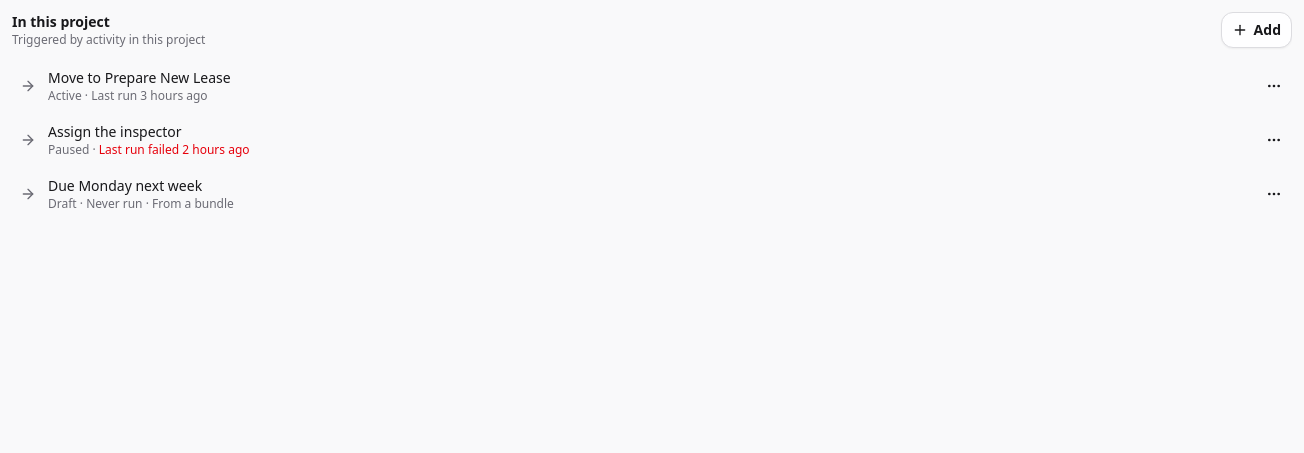
Test case: CustomizeRulesSection › gives each rule its own ⋯ menu, named for what removing it does
Click the button named "Actions for Assign the inspector".
click(1274, 140)  # box [1260,126,1288,154]
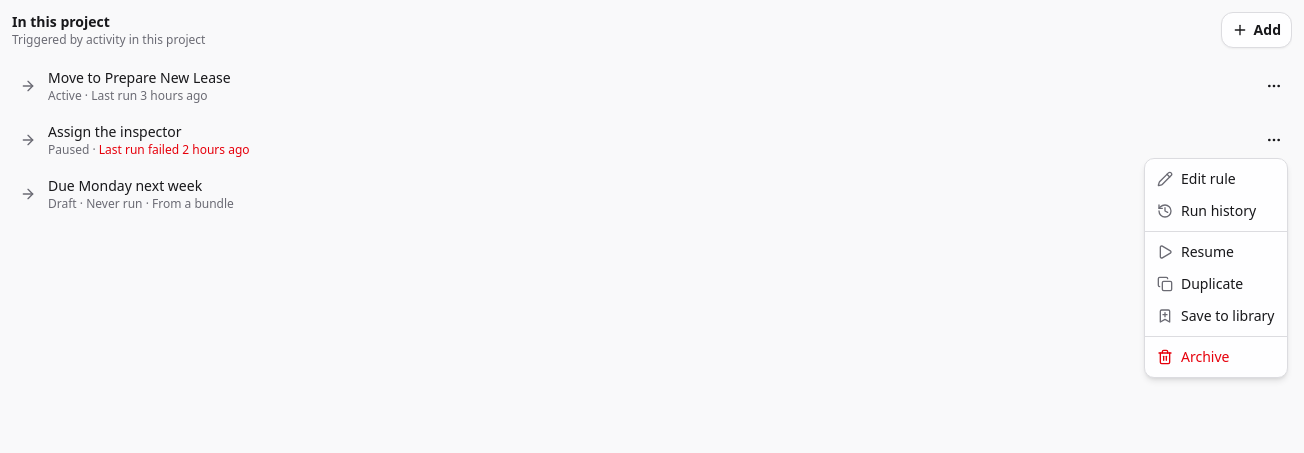
expect the menu items read "Edit rule", "Run history", "Resume", "Duplicate", "Save to library", "Archive", in this order: met, box [1157,169,1236,188]; [1157,201,1256,220]; [1157,242,1234,261]; [1157,274,1243,293]; [1157,306,1274,325]; [1157,347,1230,366]
Press Escape
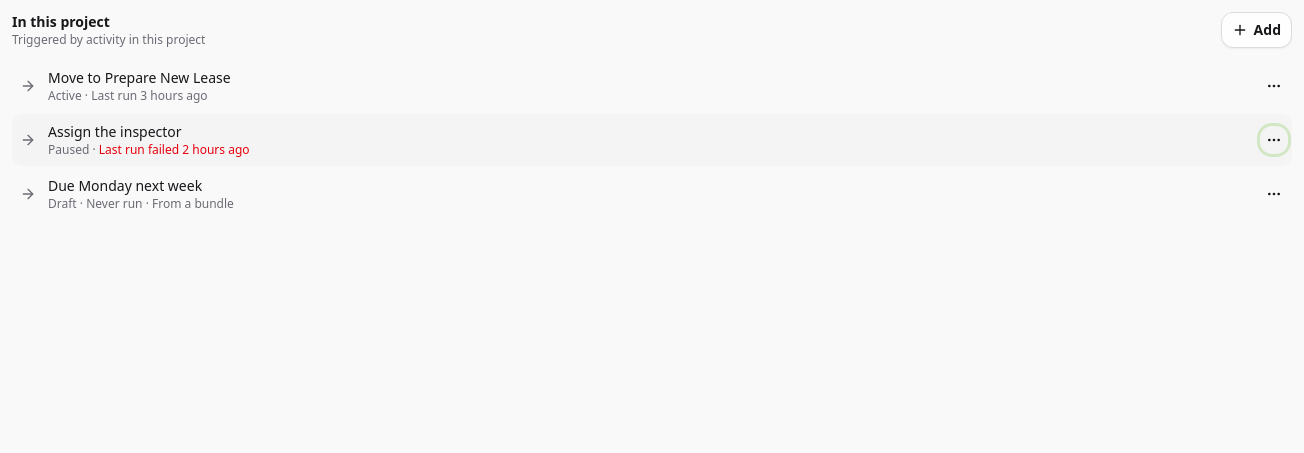
Click the button named "Actions for Due Monday next week".
click(1274, 194)  # box [1260,180,1288,208]
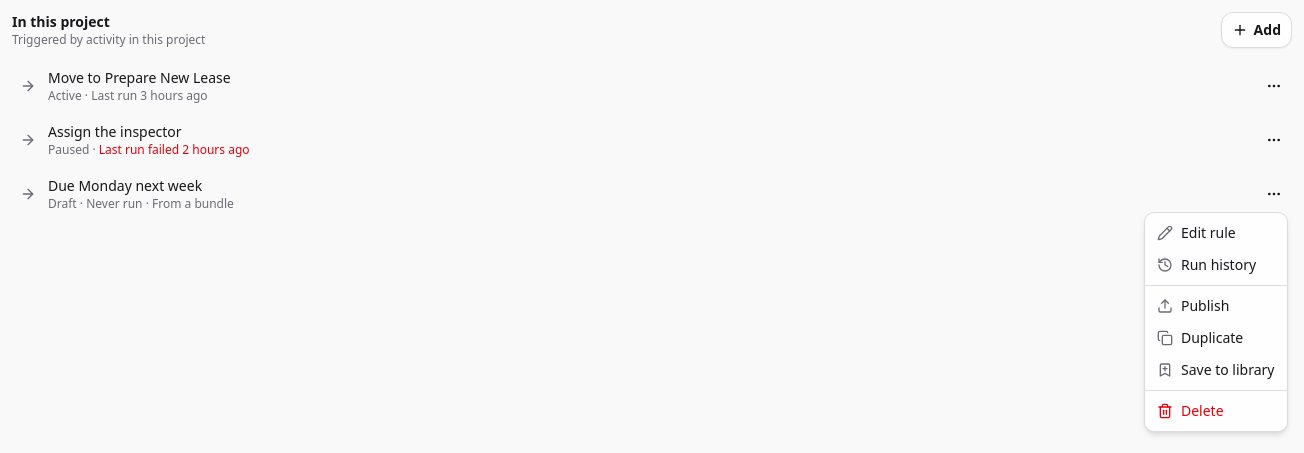
expect the menu item "Publish" is shown: met, box [1157,296,1229,315]
expect the menu item "Delete" is shown: met, box [1157,401,1224,420]
